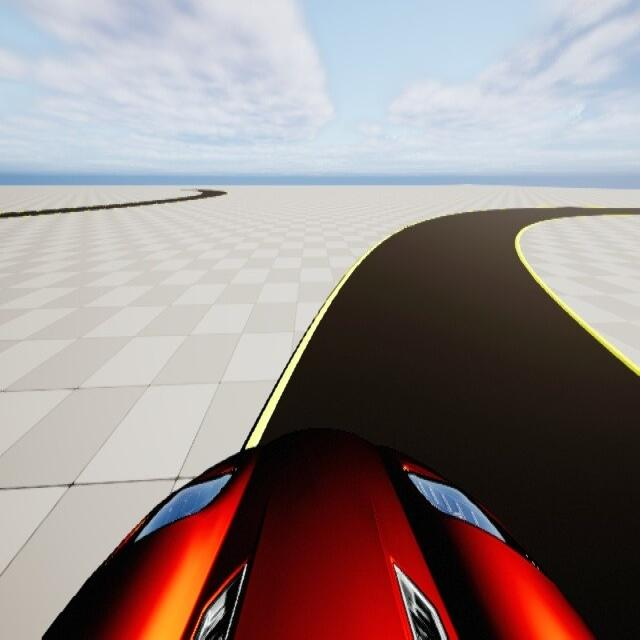lane: (248, 209, 639, 639)
